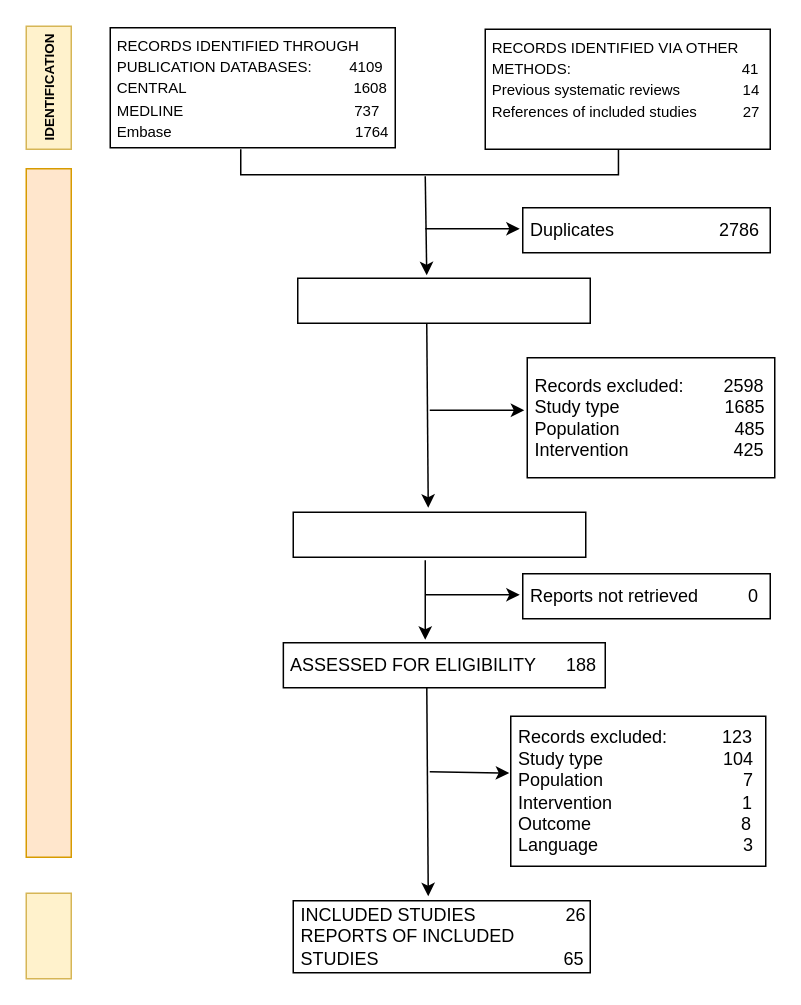
Some shapes in this 801 by 1005 pixel diagram are drawn without their labels. The shapes that lost their labels are listed below. From the top down, each one's centre as x and y in pixels, then its label:
the point at 443,300: RECORDS SCREENED 2786
the point at 48,512: SCREENING
the point at 439,534: SORT FOR RETRIEVAL 188
the point at 48,935: INCLUDED
